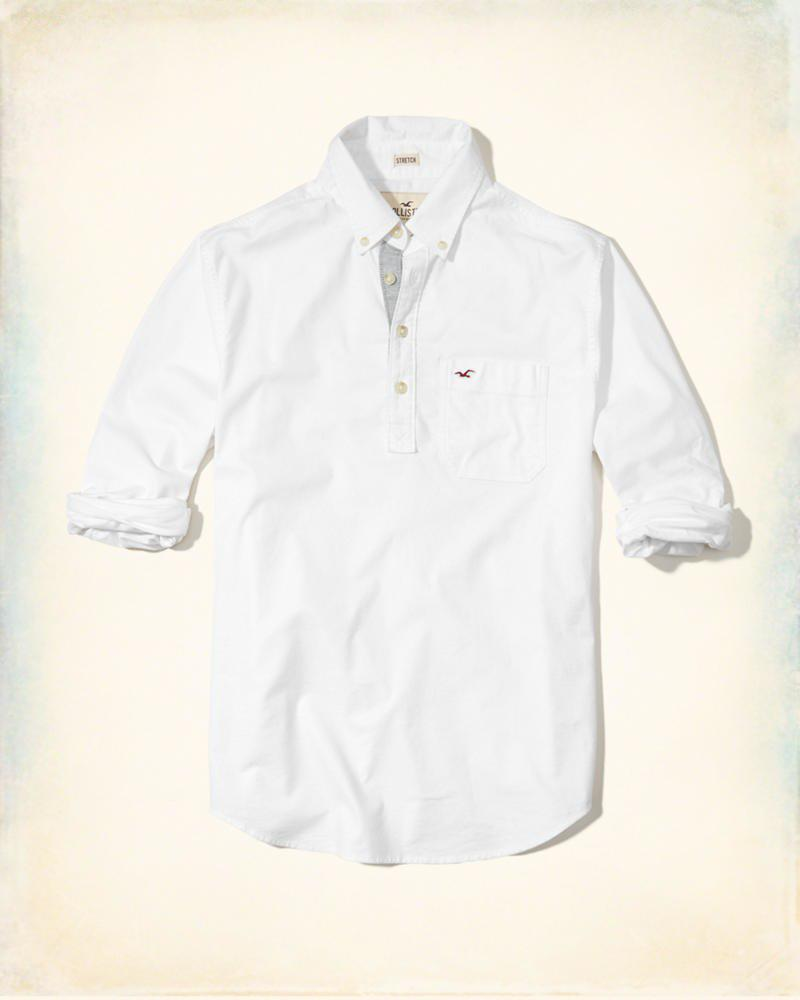teeshirt: (91, 103, 752, 868)
